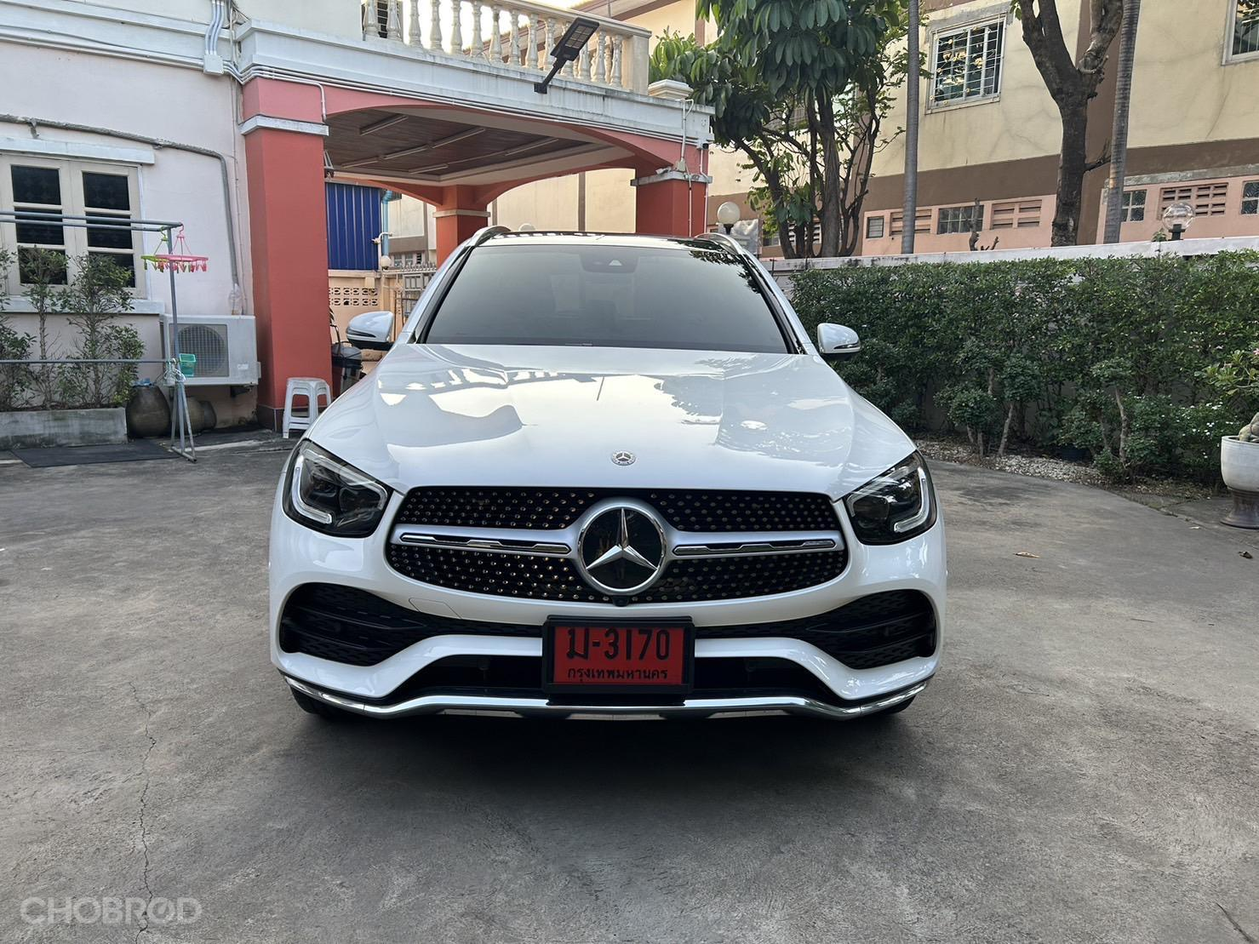license-plate: (541, 609, 691, 695)
